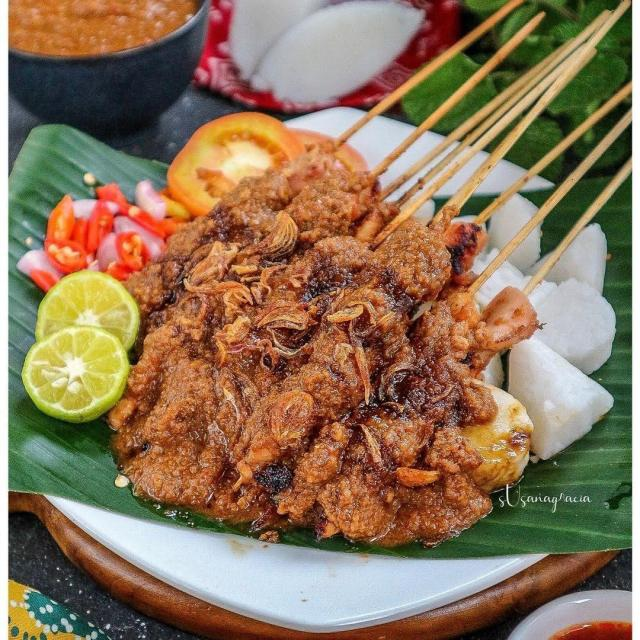Sate: (162, 38, 601, 547)
